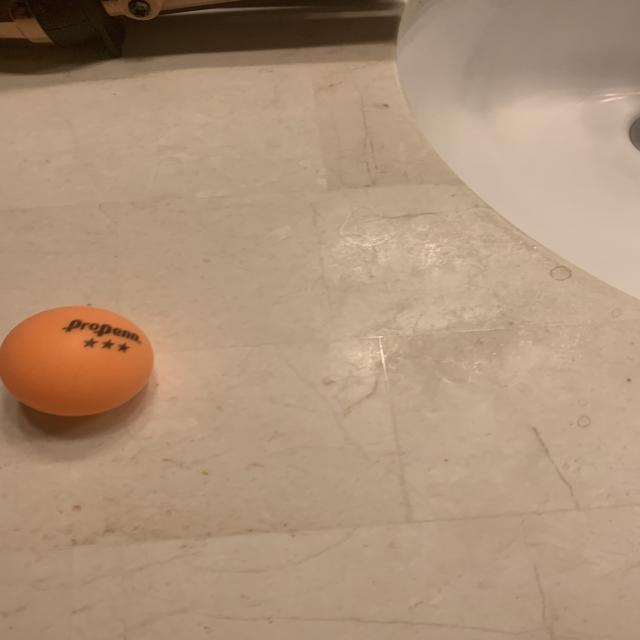ping-pong-ball: (0, 302, 156, 422)
